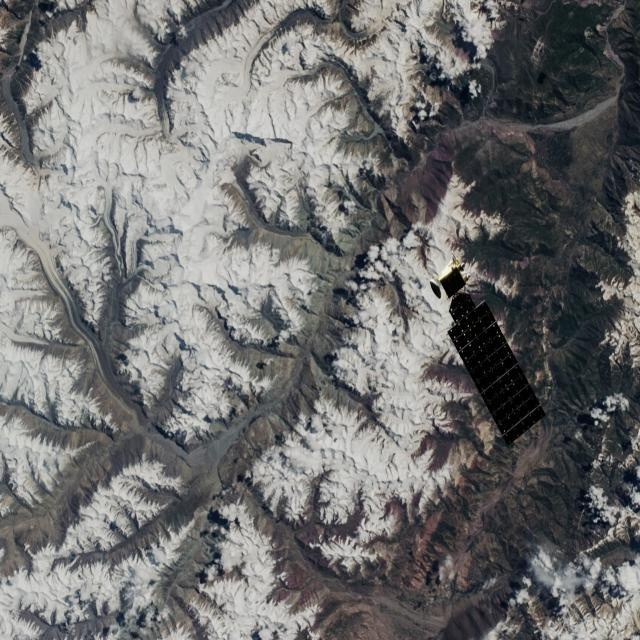medium_debris: (420, 256, 544, 448)
